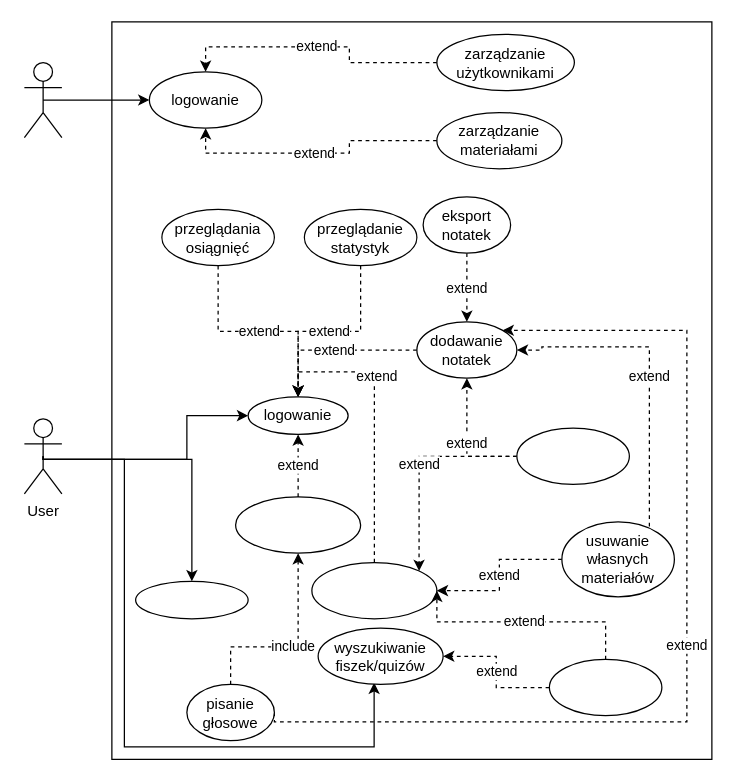
This 734x781 diagram has some shape labels left out. The shapes that lost their labels are listed below. From the top down, each one's centre as x and y in pixels, then its label:
pixel 42 99: Admin
pixel 572 455: edycja materiałów
pixel 297 524: zakup wersji premium
pixel 191 599: rejestracja
pixel 374 590: tworzenie fiszek/quizów
pixel 605 687: używanie fiszek/quizów
